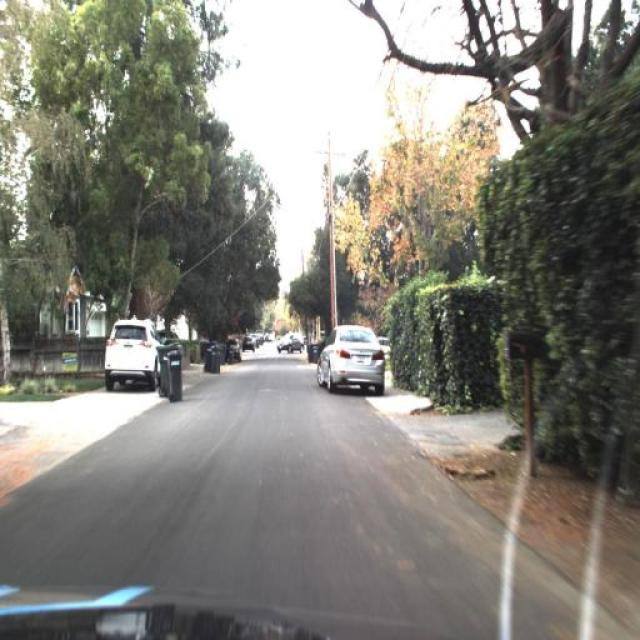car: (316, 323, 386, 397), (99, 314, 162, 388), (99, 318, 162, 392), (156, 319, 183, 355), (276, 330, 303, 354), (225, 337, 241, 361), (244, 334, 256, 354), (314, 325, 327, 340)
